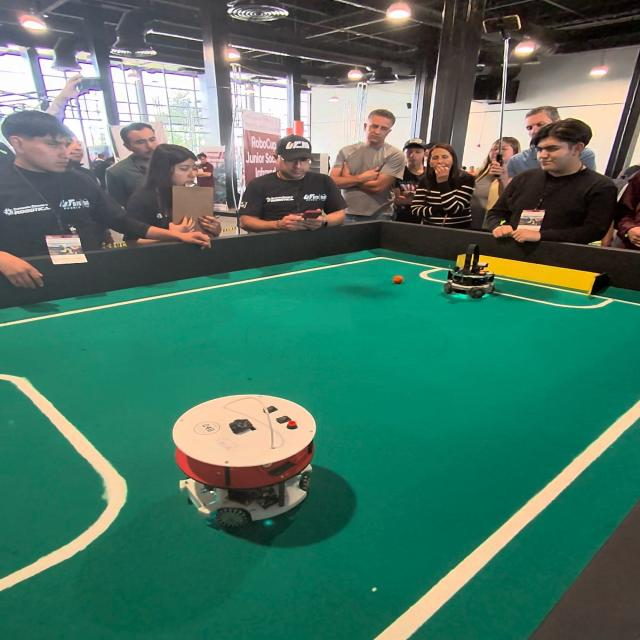Robot: (172, 383, 322, 544), (446, 244, 501, 307)
pelota: (391, 277, 406, 288)
